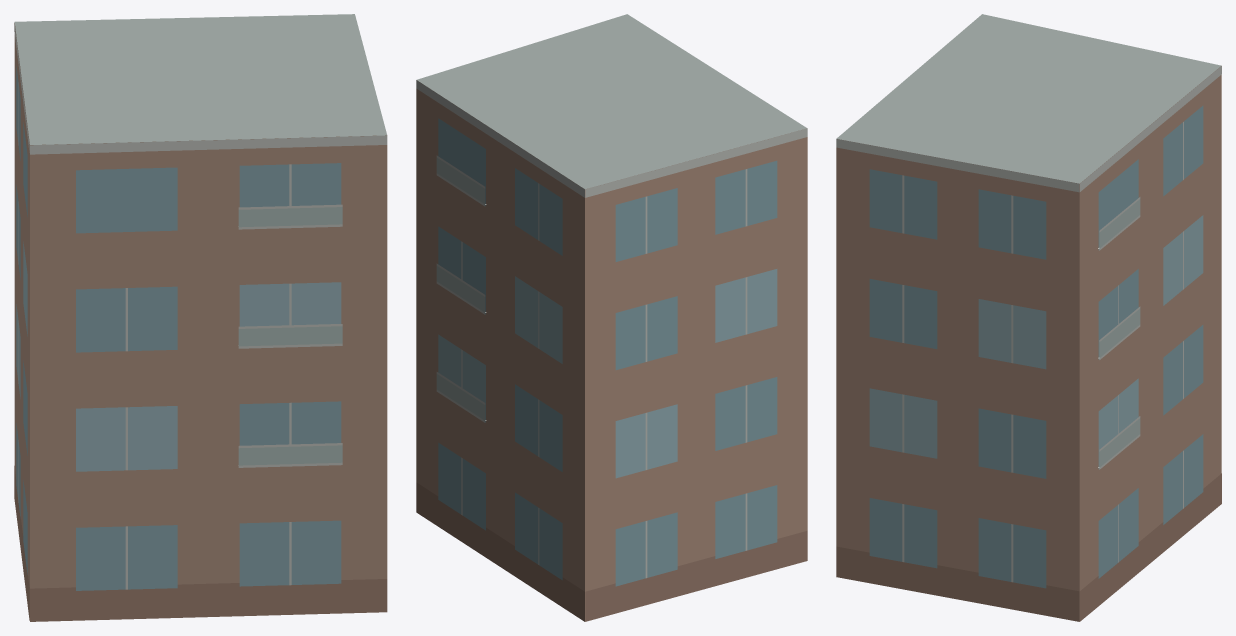
The model's file is survey-upis-32723720.glb.
3 renders of one model, left to right at view 1: azimuth 30°, elevation 25°; view 2: azimuth 150°, elevation 25°; view 3: azimuth 270°, elevation 25°, orthographic. The views are drawn at different scales.
Visible parts, largest first — view 1: survey-upis-32723720.tmp; view 2: survey-upis-32723720.tmp; view 3: survey-upis-32723720.tmp.
Boxes of the visible parts, x1,y1,x2,y2 form: survey-upis-32723720.tmp: (14, 14, 387, 621); survey-upis-32723720.tmp: (416, 14, 807, 621); survey-upis-32723720.tmp: (836, 14, 1221, 621).
Bounding box in the file's own units: 10.14 × 12.2 × 9.73.
